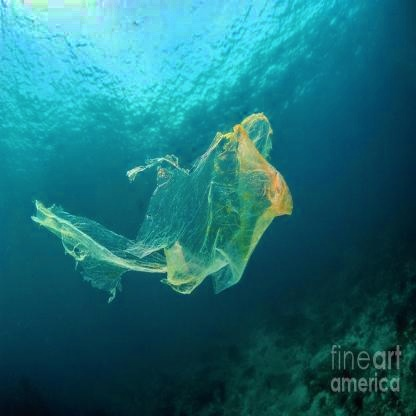pbag: (28, 106, 296, 307)
